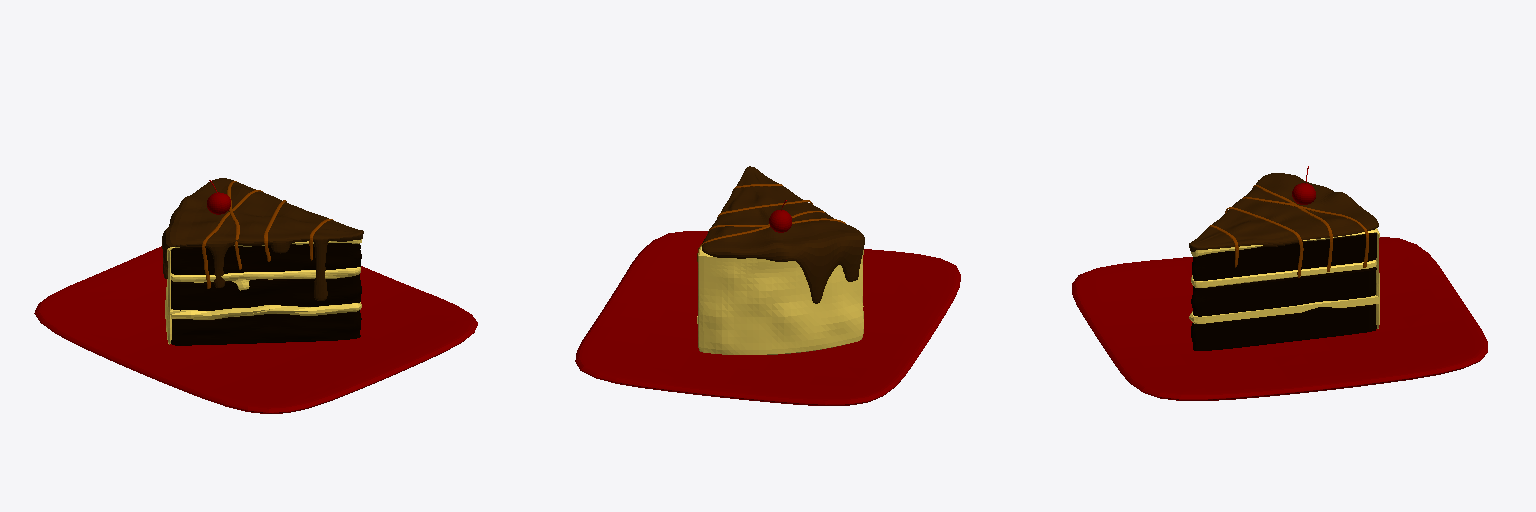
Rendered from piece_of_the_cake.obj.
3 renders of one model, left to right at view 1: azimuth 30°, elevation 25°; view 2: azimuth 150°, elevation 25°; view 3: azimuth 270°, elevation 25°, orthographic.
Parts seen in each view (by area): view 1: Chocolate_Cake; view 2: Chocolate_Cake; view 3: Chocolate_Cake.
Part boxes in pixels (left/top/right/bottom): Chocolate_Cake: left=34, top=178, right=477, bottom=413; Chocolate_Cake: left=575, top=166, right=960, bottom=405; Chocolate_Cake: left=1072, top=166, right=1487, bottom=400.
Size of the model in its own units: 0.2402 by 0.1025 by 0.261.